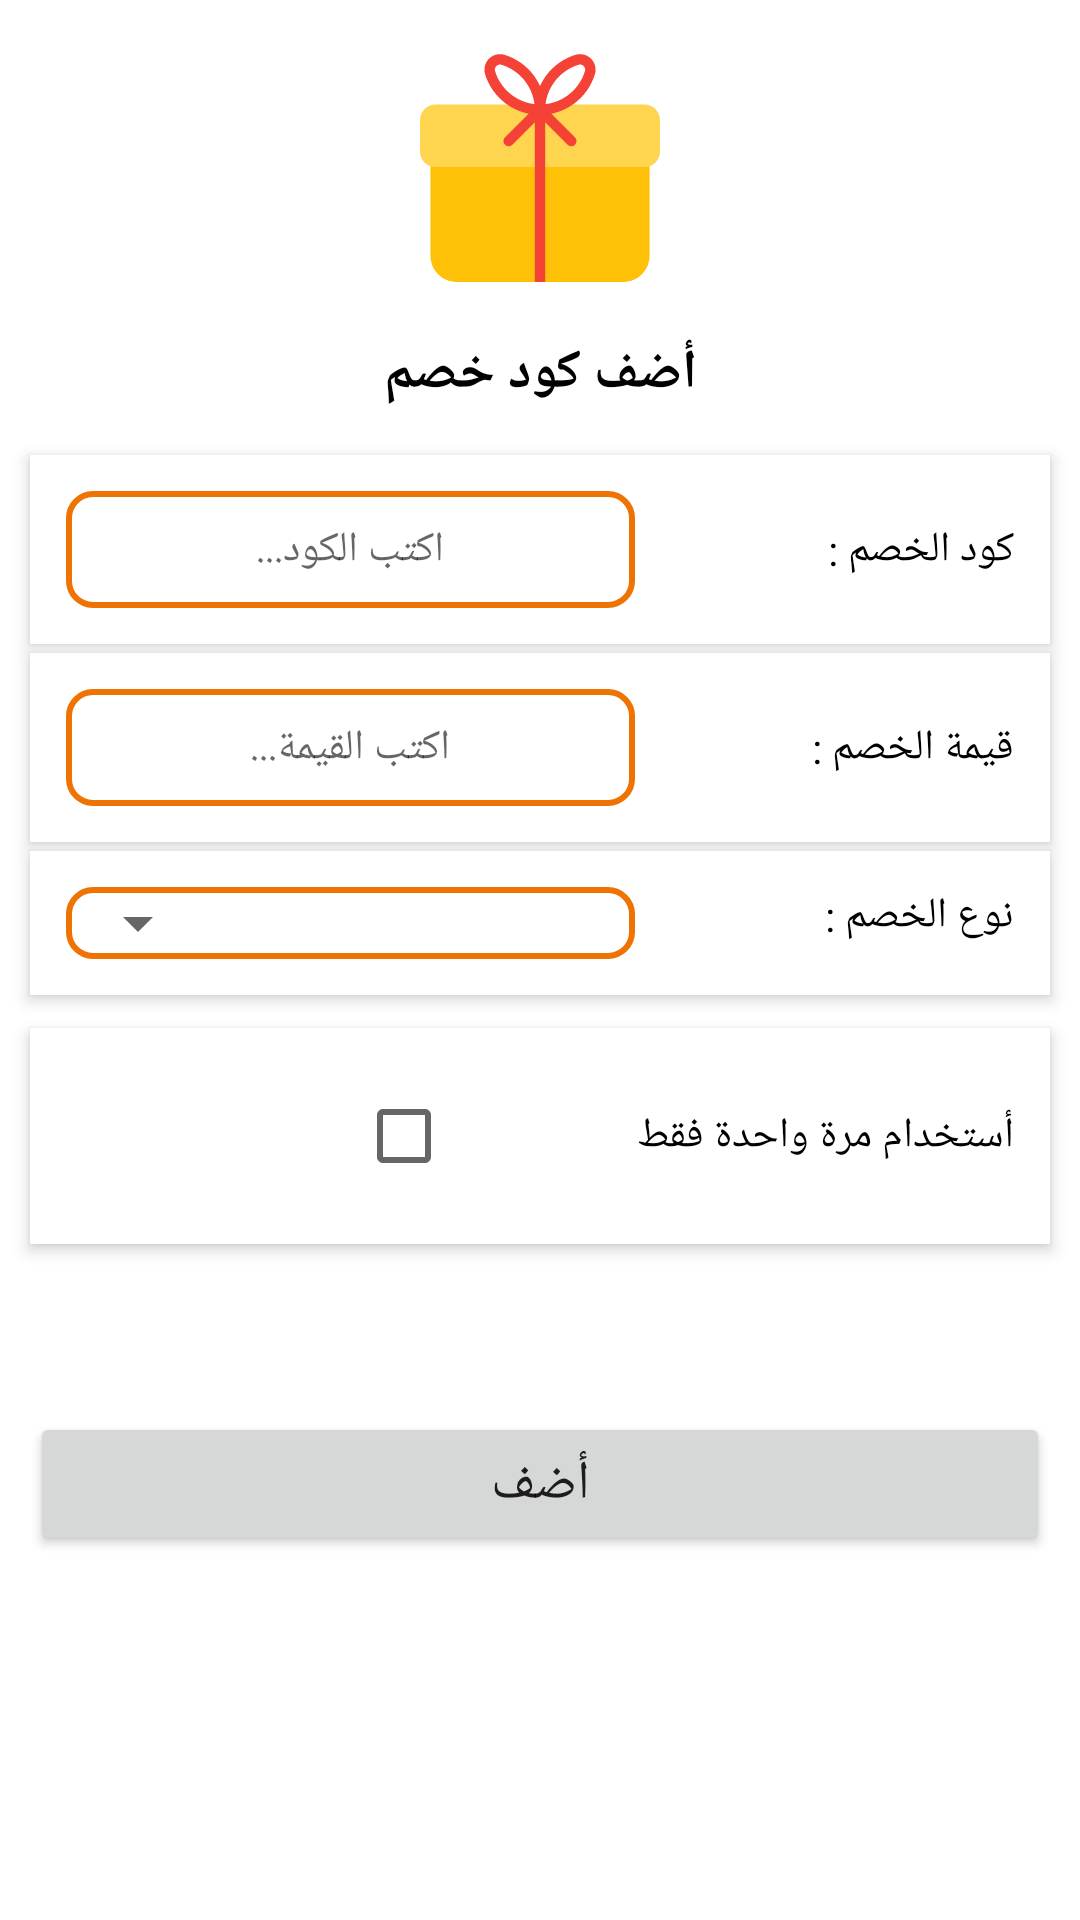

Named icons in this screenshot (1080w x 1920h) and their bounding boxes, (x1, y1, x2, y2):
gift box: (420, 54, 660, 282)
